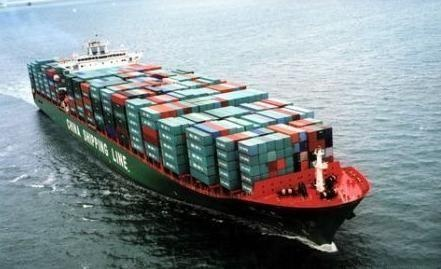Cargoship: (27, 29, 371, 244)
